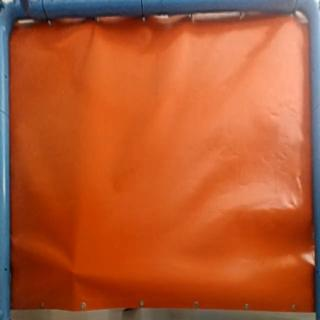Hit-hRxx: (64, 266, 82, 282)
